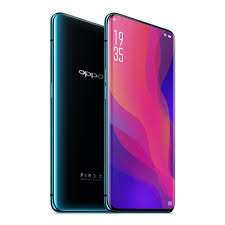oppo: (103, 12, 178, 213), (47, 12, 106, 214)
